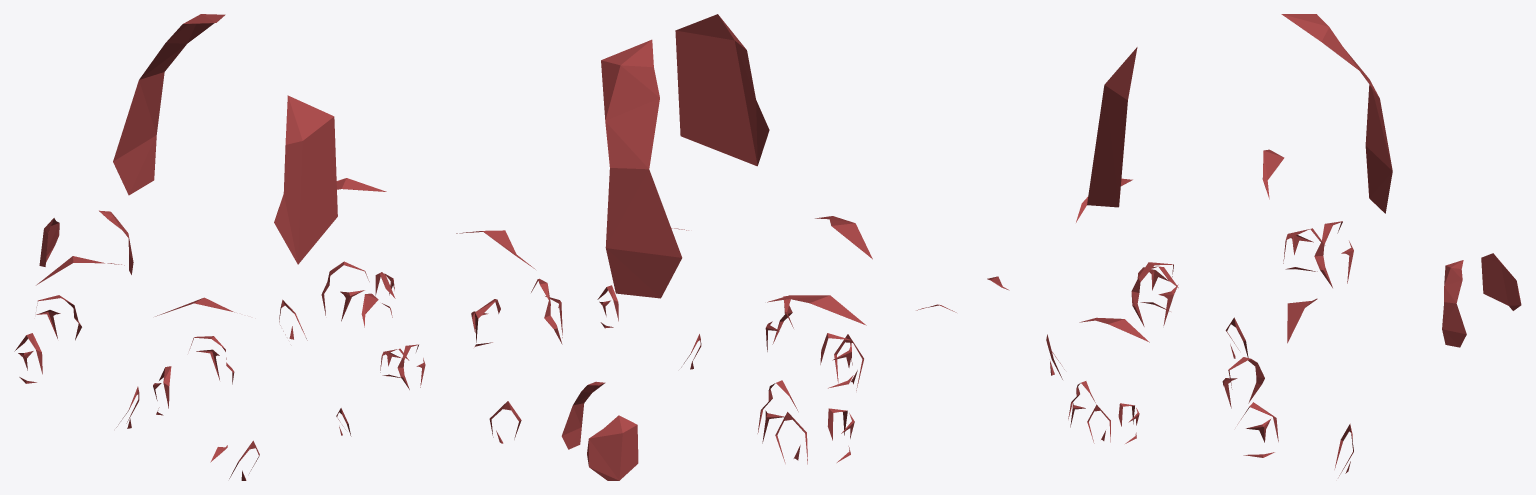
The model's file is Mine_02_Light.FBX.
The picture shows the model from 3 angles, left to right: view 1: azimuth 30°, elevation 25°; view 2: azimuth 150°, elevation 25°; view 3: azimuth 270°, elevation 25°; orthographic projection. The views are drawn at different scales.
Visible parts, largest first — view 1: Mine_02_Light; view 2: Mine_02_Light; view 3: Mine_02_Light.
Boxes of the visible parts, x1,y1,x2,y2 form: Mine_02_Light: [14, 14, 425, 480]; Mine_02_Light: [456, 14, 956, 480]; Mine_02_Light: [987, 14, 1521, 477].
Bounding box in the file's own units: 12.96 × 12.56 × 15.07.
